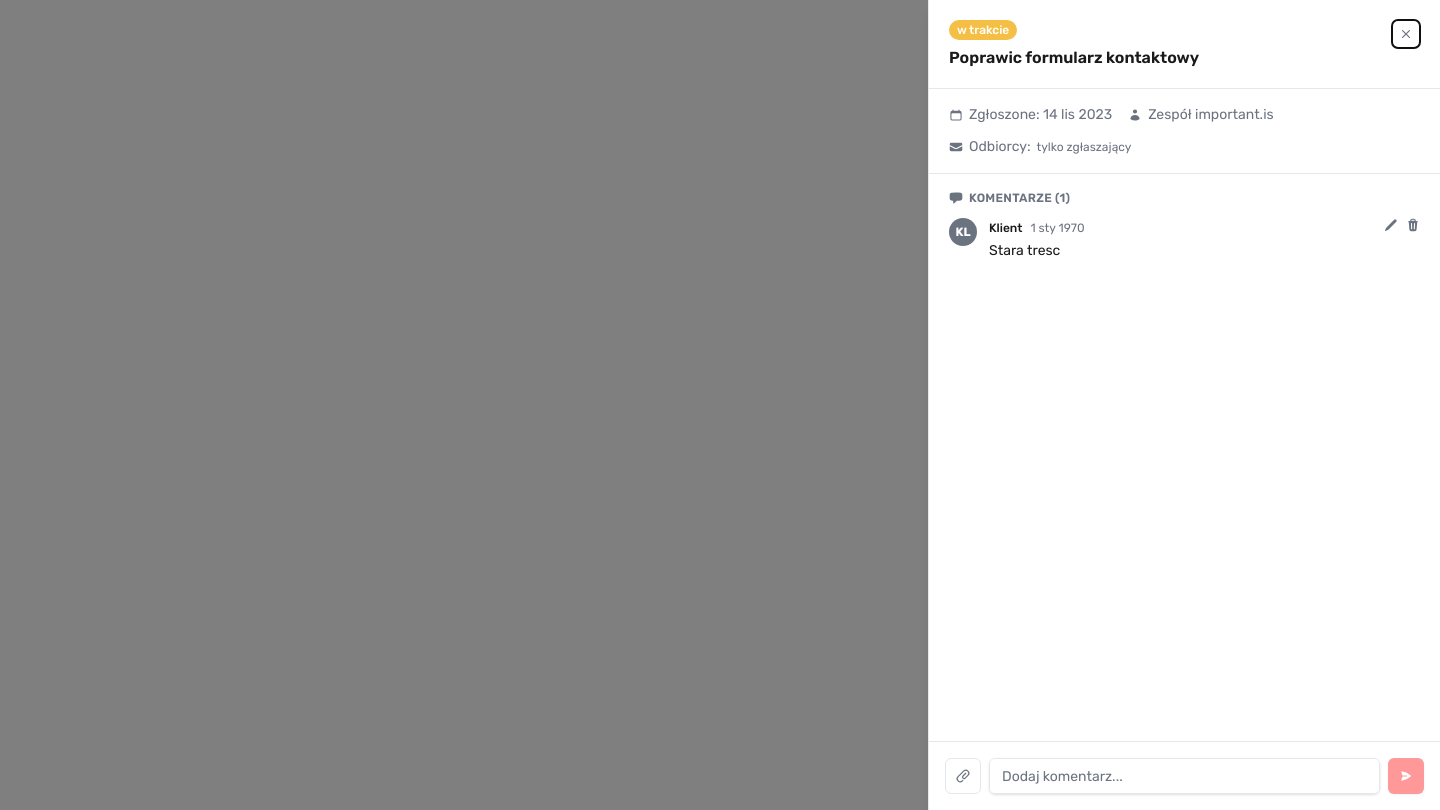
Test: edycja i usuwanie wlasnego komentarza › edycja: PUT niesie slug, zachowuje prefiks, i podmienia tresc lokalnie bez ponownego GET
Expected: the text "Stara tresc" is shown, [989,242,1060,259]
Step 1. Click the button named "Edytuj komentarz" → (1391, 225), box [1384,218,1398,232]
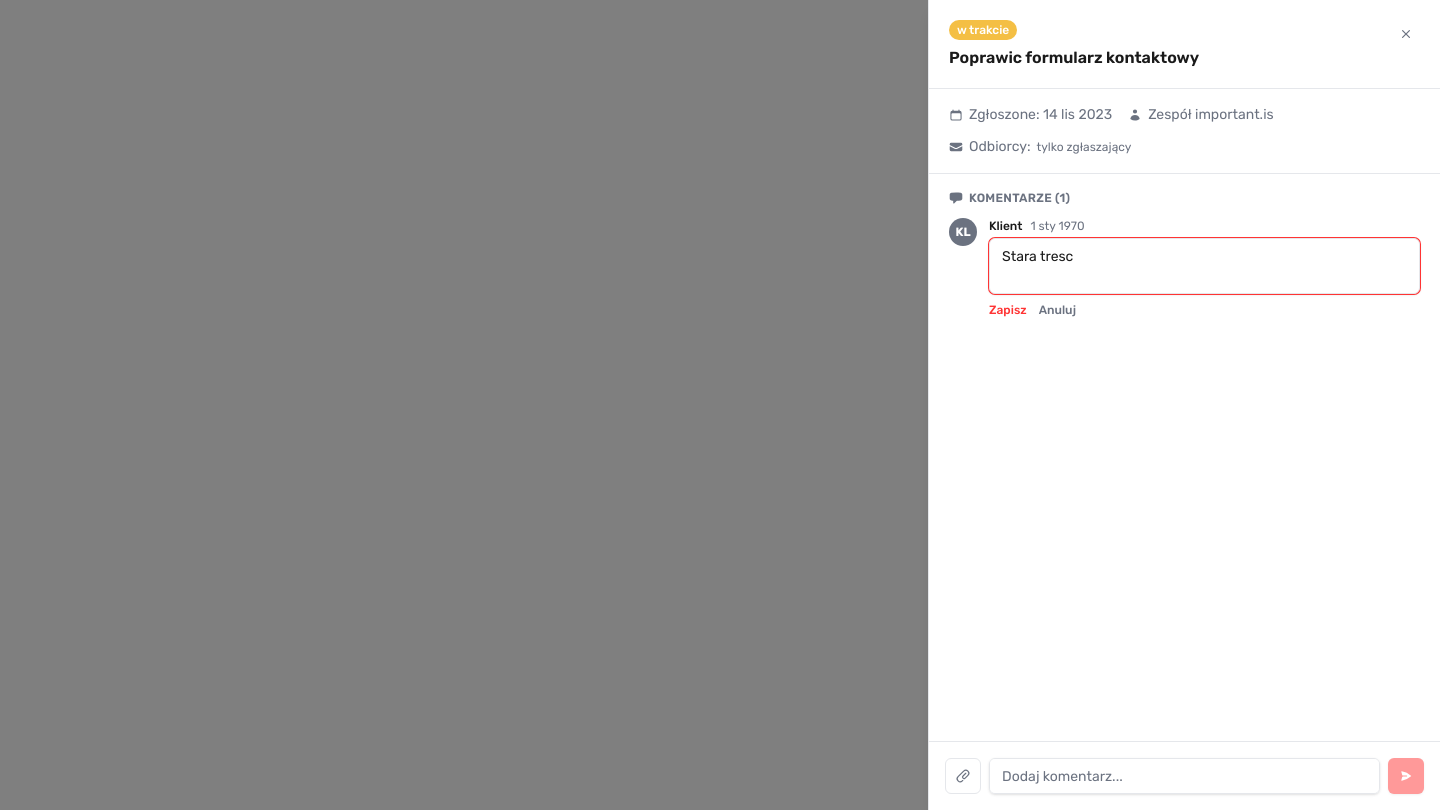
Step 2. Replace the text in the text box showing "Stara tresc" with "Nowa tresc" → (1204, 266), box [989,238,1420,294]
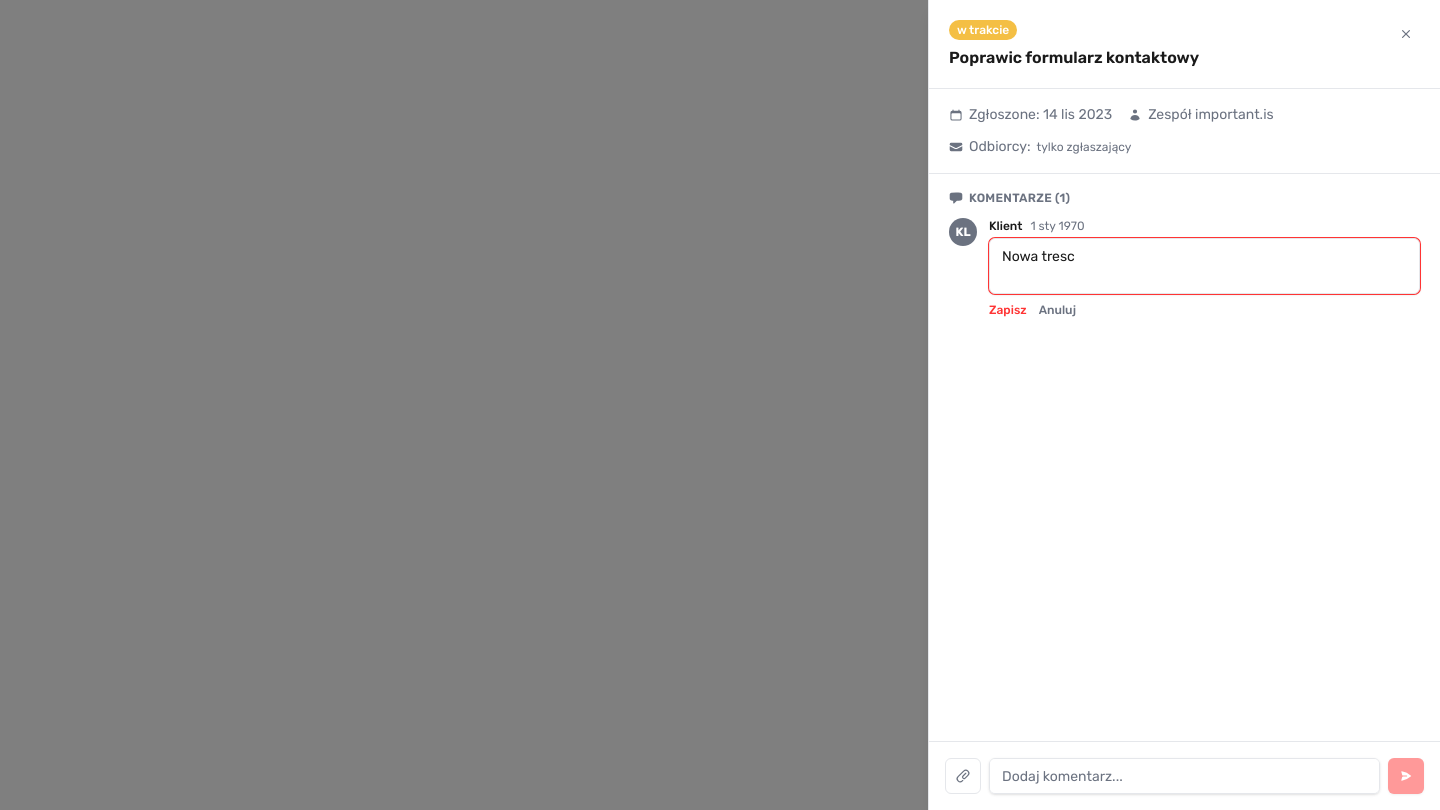
Step 3. Click the button "Zapisz" → (1008, 310), box [989,302,1027,318]
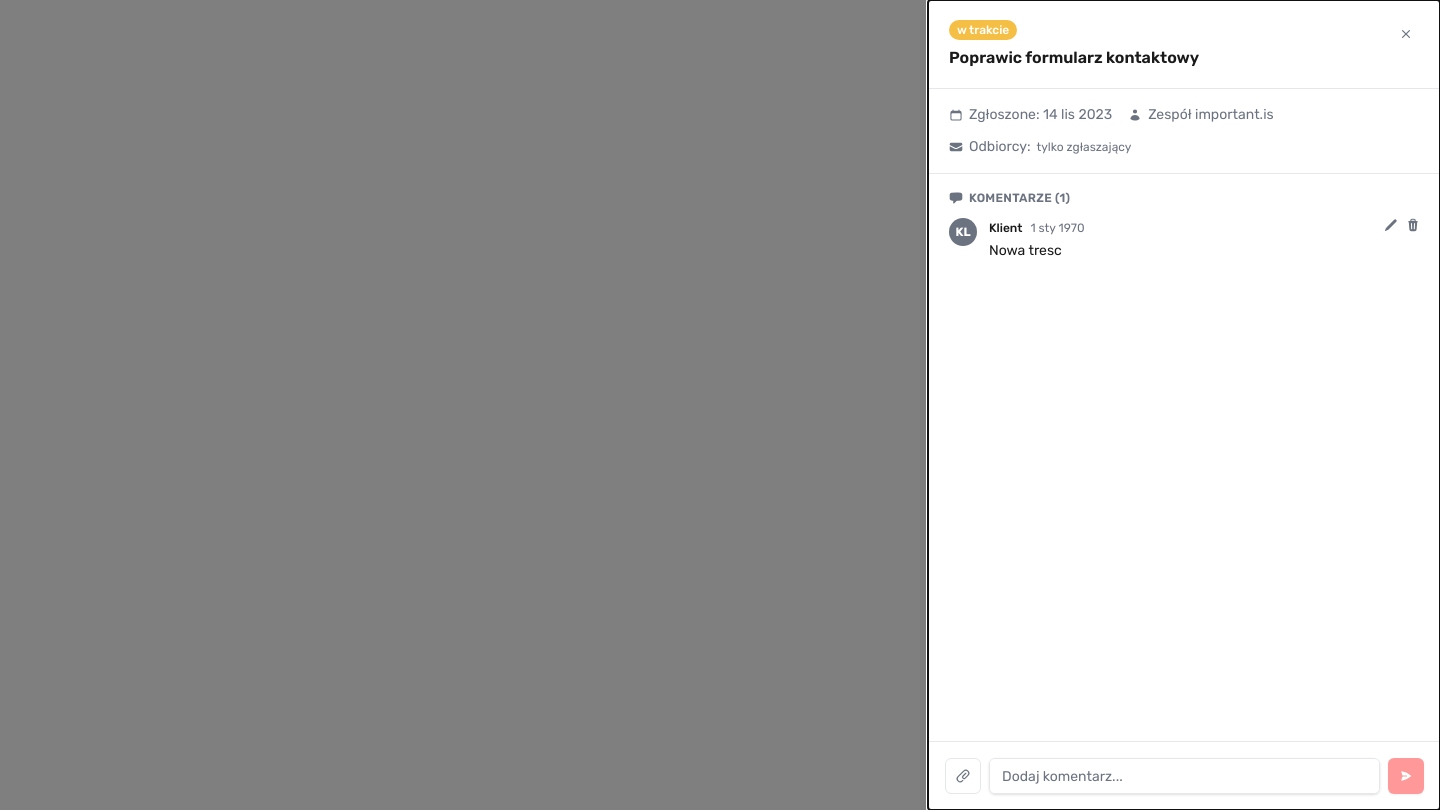
Expected: the text "Nowa tresc" is shown, [989,242,1062,259]
